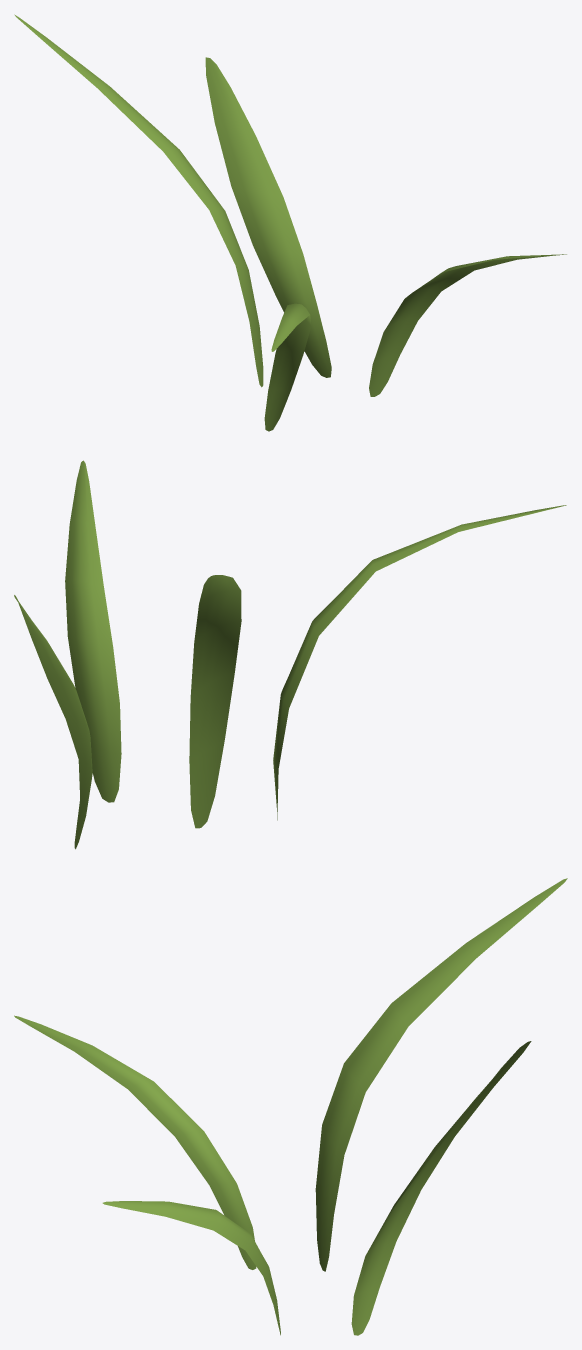
The model's file is object_GEO-leaf_grass-long_005.glb.
3 views of the same model, one above another, from view 1: azimuth 30°, elevation 25°; view 2: azimuth 150°, elevation 25°; view 3: azimuth 270°, elevation 25° (orthographic). The views are drawn at different scales.
Parts seen in each view (by area): view 1: GEO-leaf_grass-long.005; view 2: GEO-leaf_grass-long.005; view 3: GEO-leaf_grass-long.005.
Boxes of the visible parts, bbox=[...] form: GEO-leaf_grass-long.005: bbox=[14, 14, 566, 431]; GEO-leaf_grass-long.005: bbox=[14, 460, 566, 849]; GEO-leaf_grass-long.005: bbox=[14, 878, 567, 1335].
Bounding box in the file's own units: 0.0886 × 0.0849 × 0.1213.
